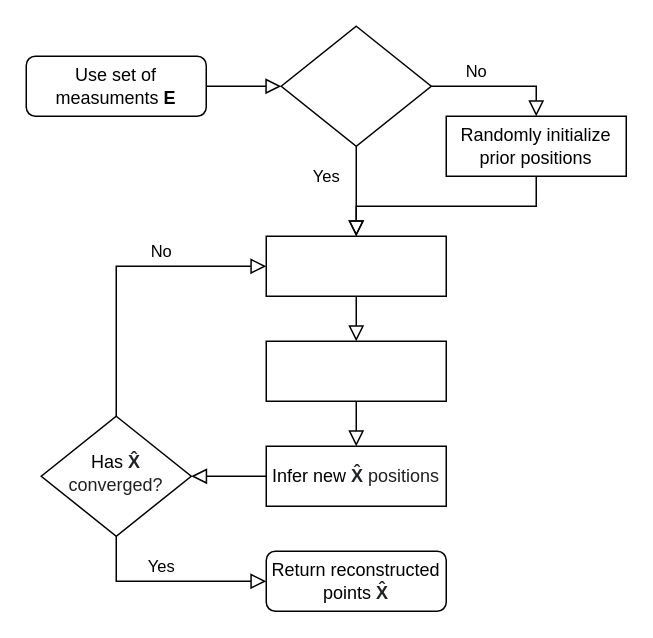
This 653x638 diagram has some shape labels left out. The centre of each missing label's shape, as x and y in pixels:
"Apply UT using measurements E" goes at [355,370].
"Are prior positions given?" goes at [355,85].
"Update cluster positions" goes at [355,265].
